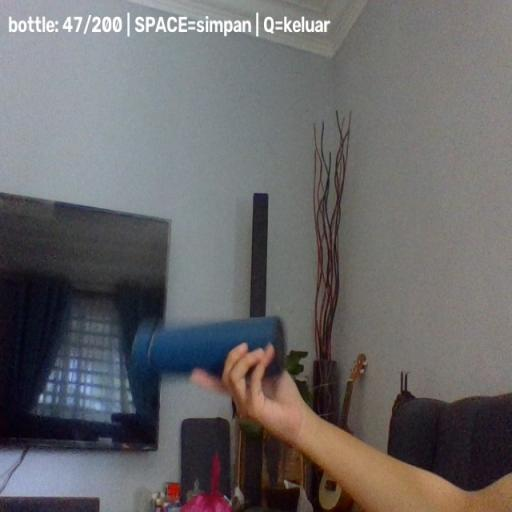Bottle: (129, 316, 286, 378)
